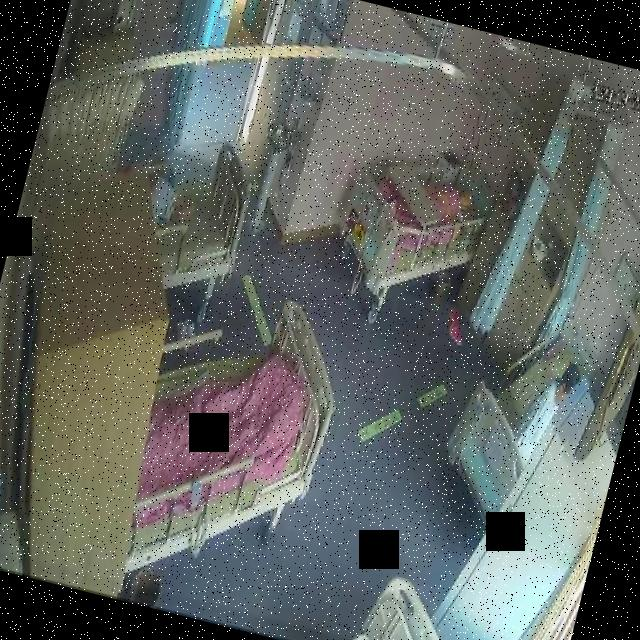bed: (117, 274, 357, 576), (308, 117, 502, 337), (429, 316, 593, 542), (128, 126, 264, 304)
patient: (498, 332, 580, 474)
stand: (499, 331, 581, 476)
